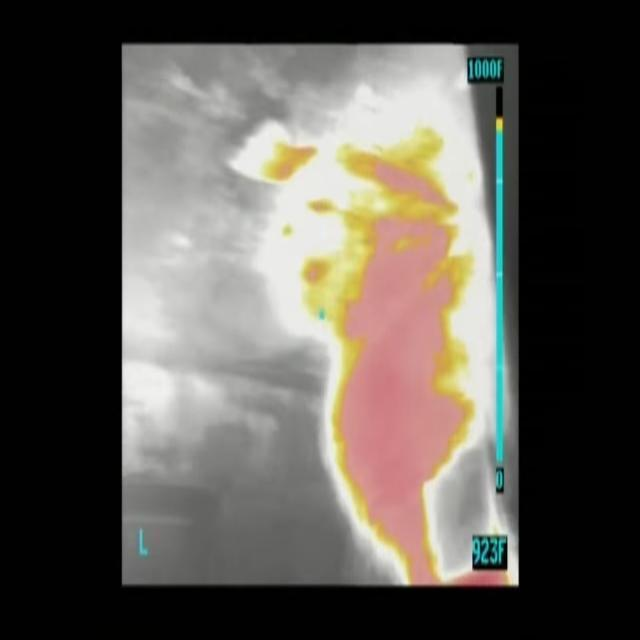fire: (301, 116, 477, 590)
